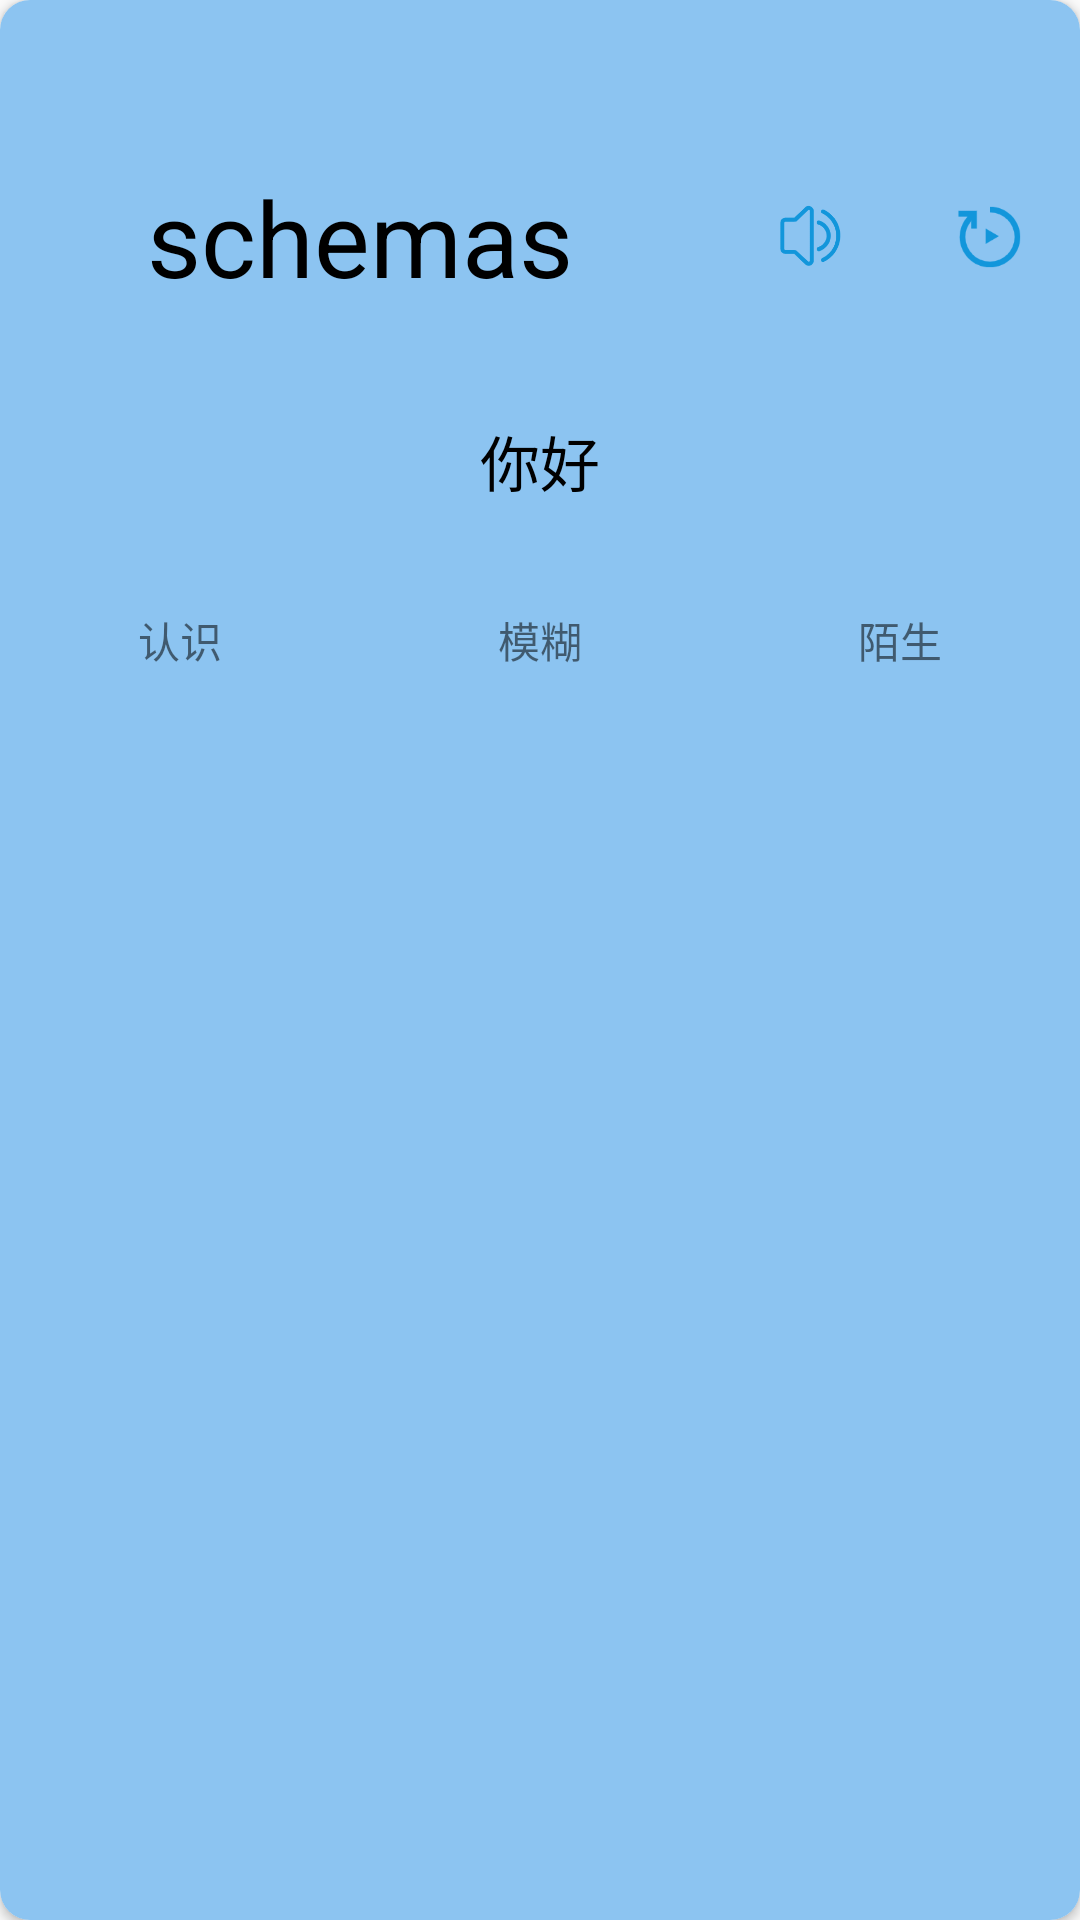

Where icons sit on this 1080px×1920px app screen, as (x1, y1, x2, y2):
replay: (958, 207, 1020, 267)
